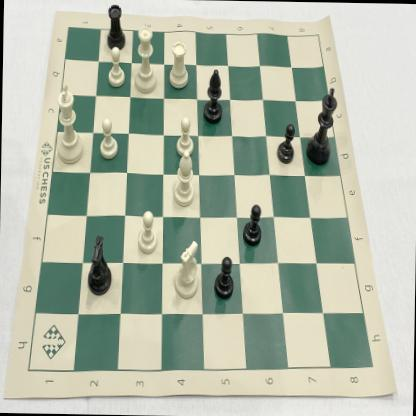bishop: (168, 149, 197, 209), (202, 66, 224, 127)
king: (304, 84, 340, 168), (52, 80, 86, 166)
knight: (84, 232, 118, 300), (172, 235, 202, 303)
pawn: (102, 44, 130, 92), (134, 207, 158, 260), (212, 250, 235, 302), (241, 200, 264, 250), (96, 115, 120, 162), (172, 113, 196, 157), (276, 118, 296, 166)
queen: (132, 21, 159, 96)
rook: (101, 0, 128, 56), (166, 38, 192, 91)
